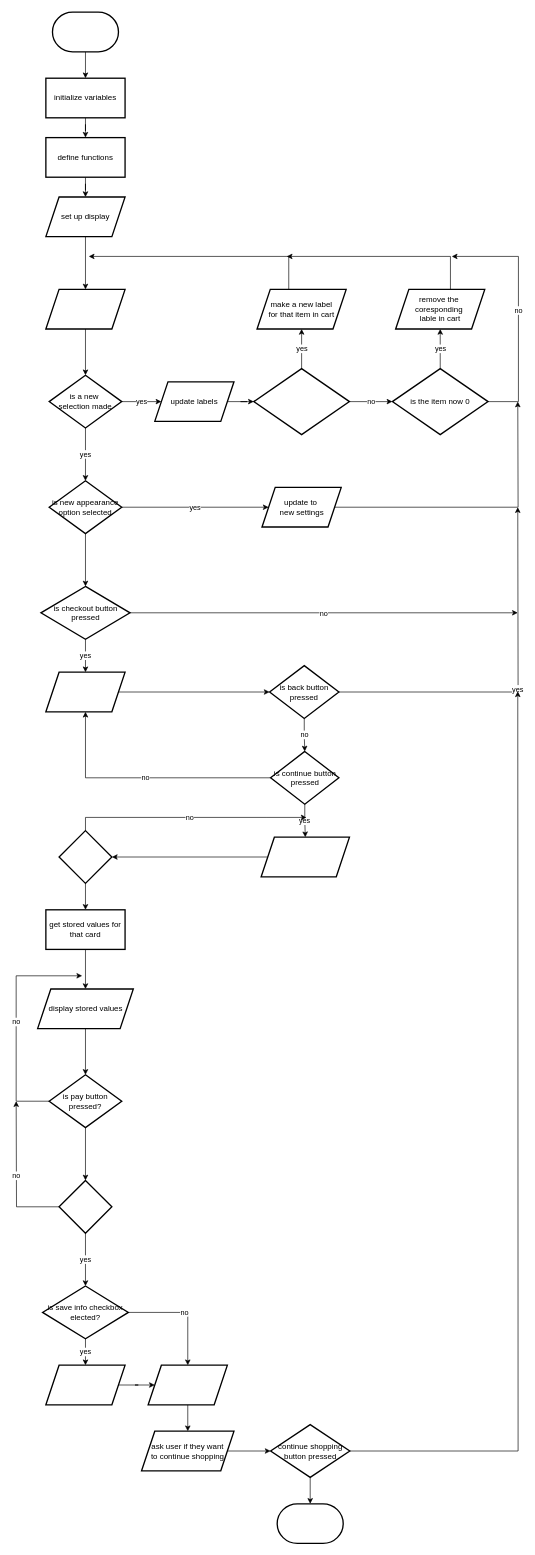
Some shapes in this 535 by 1555 pixel diagram are drawn without their labels. The box of each missing label's shape, as (x1, y1, x2, y2) in pixels:
are all fields filled?: (58, 1179, 112, 1234)
display card options: (260, 836, 350, 877)
display chekcout window: (45, 671, 125, 712)
end: (276, 1503, 344, 1544)
in an option selected: (58, 830, 112, 884)
is this this the first time this item is added?: (253, 368, 350, 435)
save info to file: (45, 1364, 125, 1405)
show display: (45, 288, 125, 329)
show order information: (147, 1364, 228, 1405)
start: (51, 11, 119, 52)
